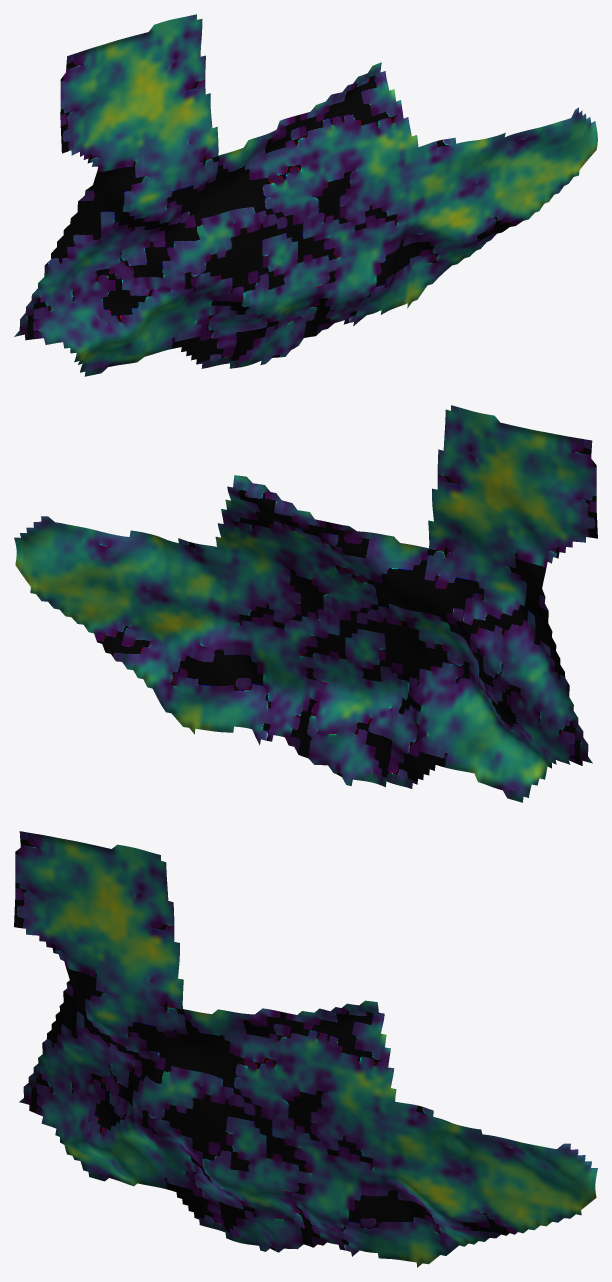
File: tirumala_terrain_coherence.glb
The picture shows the model from 3 angles, top to bottom: view 1: azimuth 30°, elevation 25°; view 2: azimuth 150°, elevation 25°; view 3: azimuth 330°, elevation 25°; orthographic projection.
Visible parts, largest first — view 1: Tirumala_Terrain_Mesh; view 2: Tirumala_Terrain_Mesh; view 3: Tirumala_Terrain_Mesh.
Part boxes in pixels (x1=…): Tirumala_Terrain_Mesh: x1=14, y1=14, x2=597, y2=376; Tirumala_Terrain_Mesh: x1=14, y1=405, x2=597, y2=802; Tirumala_Terrain_Mesh: x1=14, y1=831, x2=597, y2=1267.
Bounding box in the file's own units: 8560 × 5440 × 719.
1 material, 1 textured.
